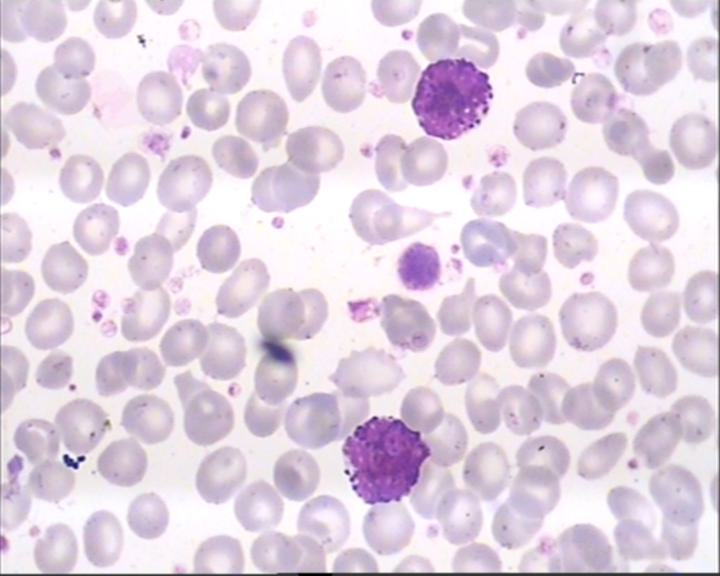baso: (336, 412, 432, 504), (405, 53, 494, 142)
